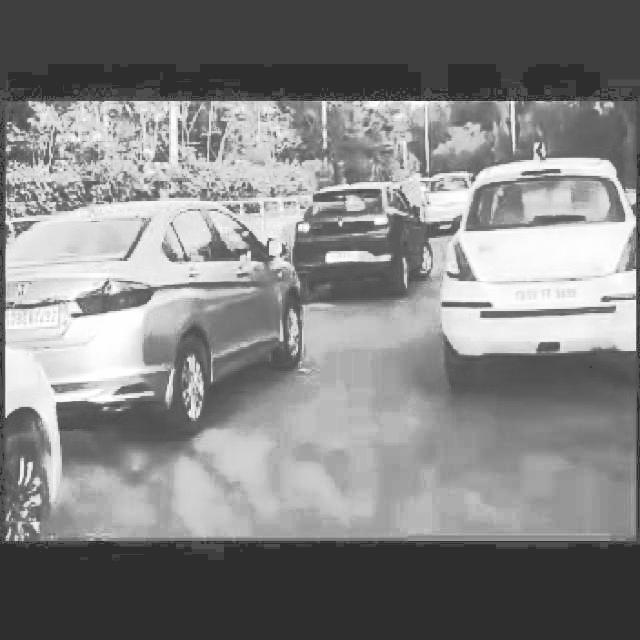Car: (24, 200, 315, 378), (438, 147, 640, 361), (299, 174, 437, 303), (0, 340, 65, 538), (424, 158, 473, 229)
